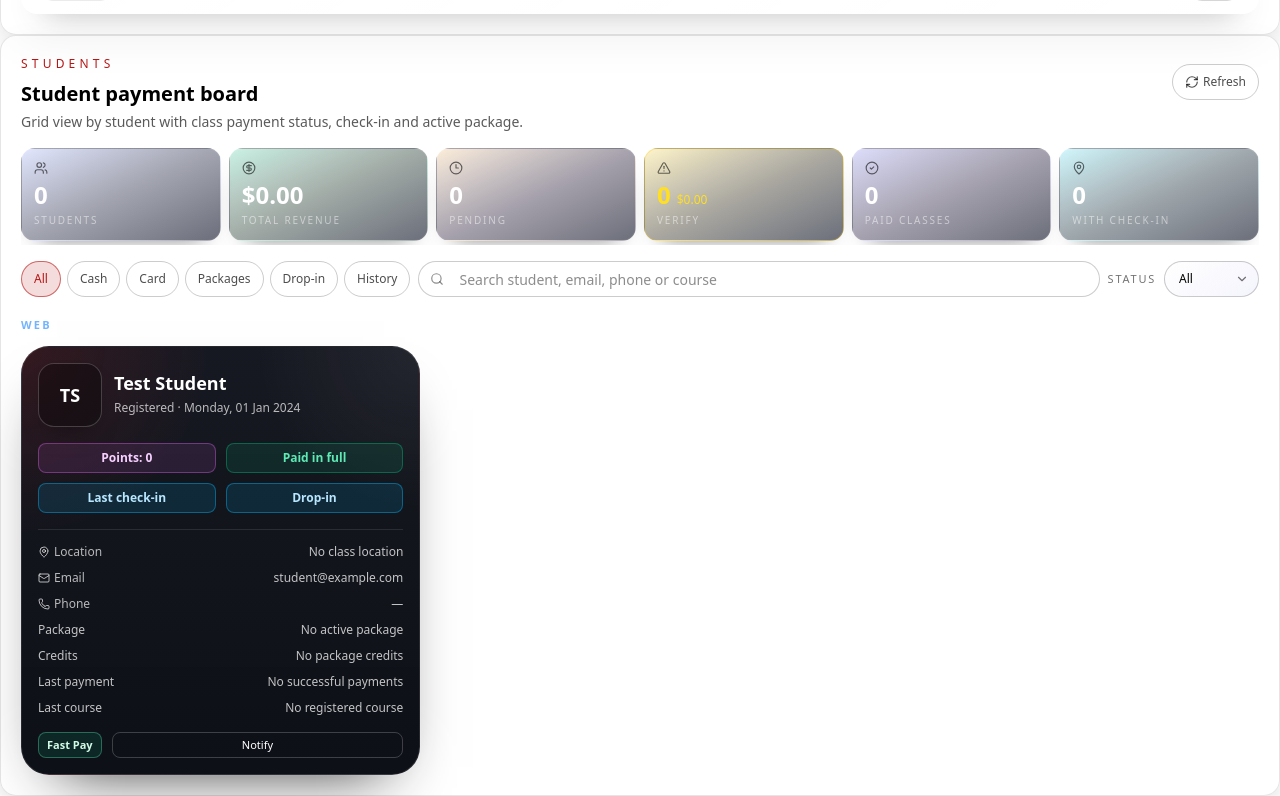
Scenario: StaffStudentsBoardPanel › shows a blocking popup when fast action returns a pending payment error
This screenshot has width=1280, height=796.
(page scrolled)
Click the button "Fast Pay" at (70, 745), box [38,732,102,758]
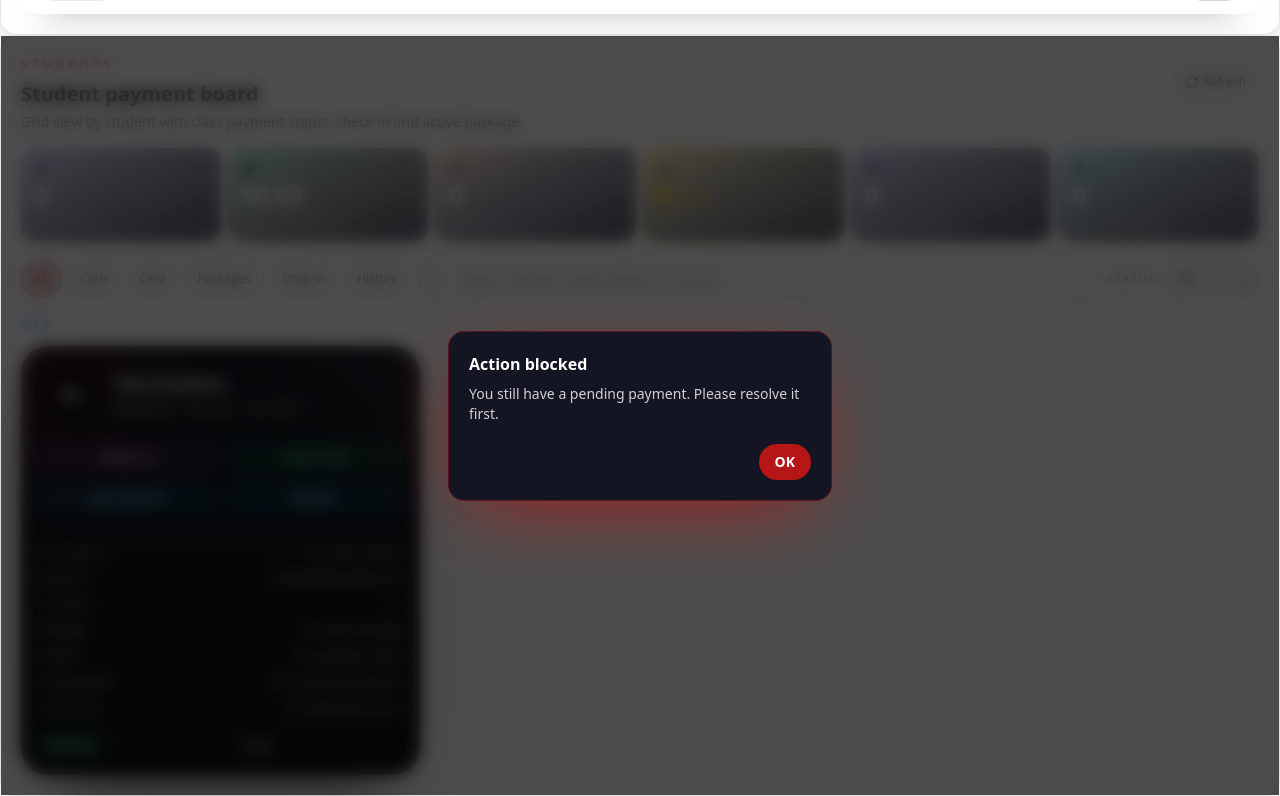
Check: the dialog is shown, box [448,330,832,500]
Check: the text "Action blocked" is shown, box [469,352,587,374]
Check: the text "You still have a pending payment. Please resolve it first." is shown, box [469,384,811,424]
